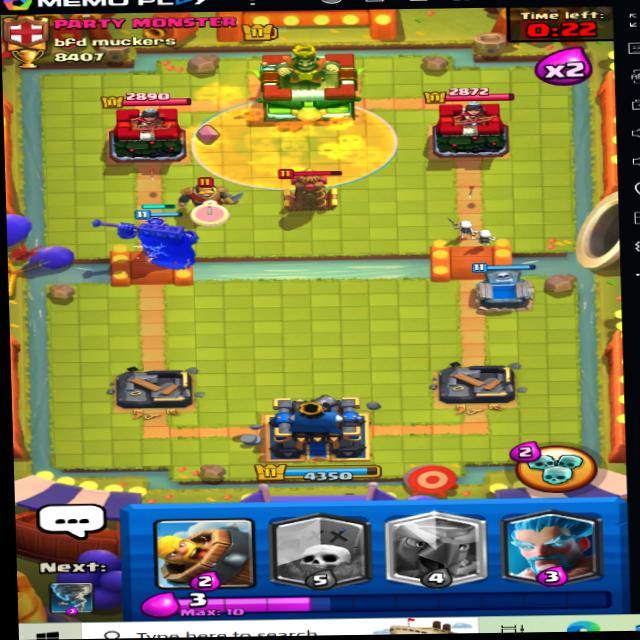knight: (169, 170, 251, 212)
tesla: (266, 158, 354, 212)
